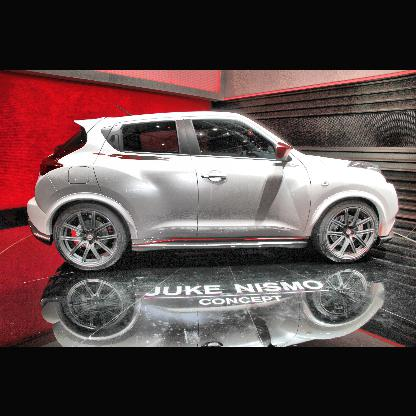Nissan Juke Hatchback 2012: (28, 111, 400, 269)
